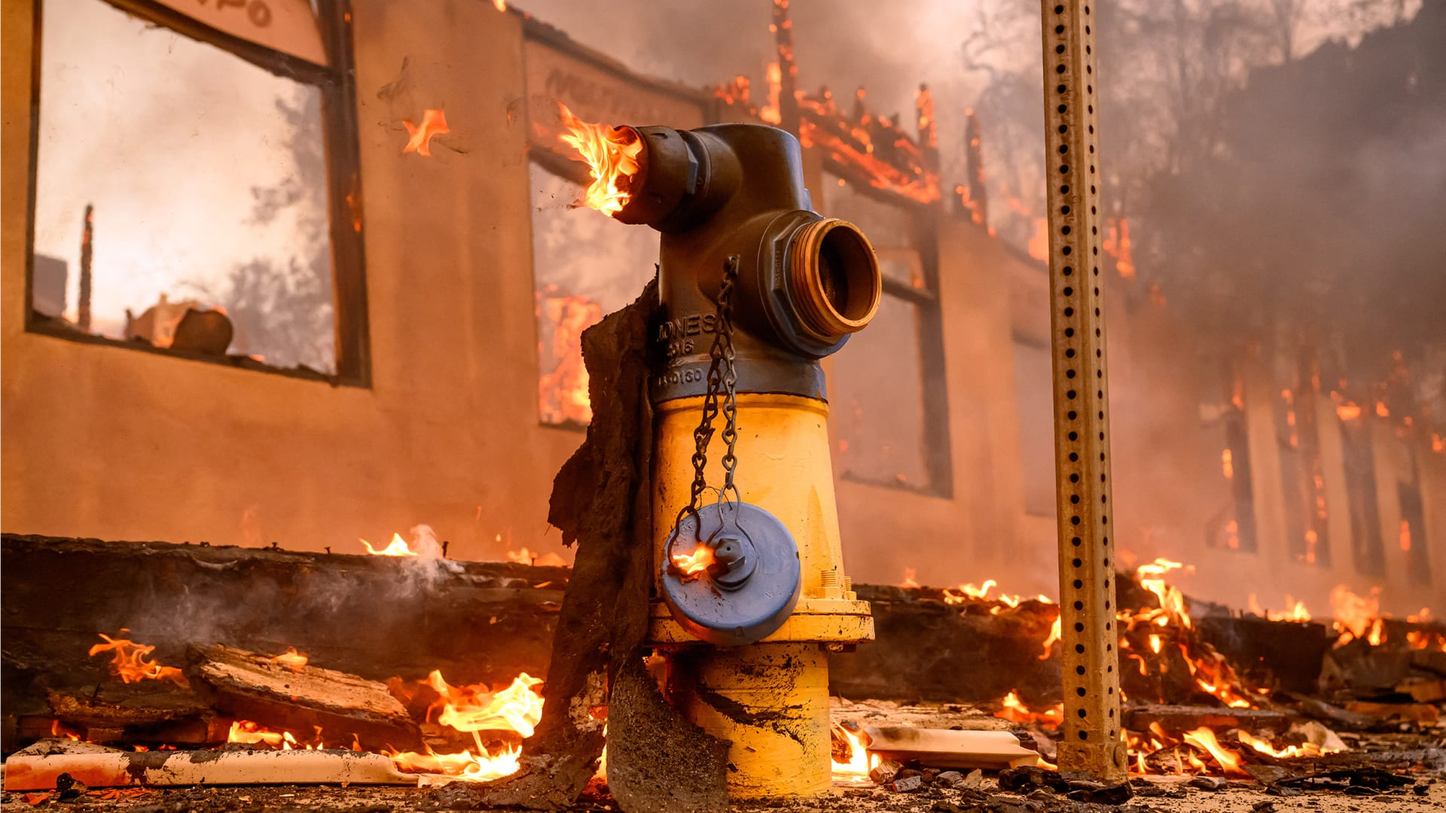FireHydrant: (520, 89, 917, 801)
